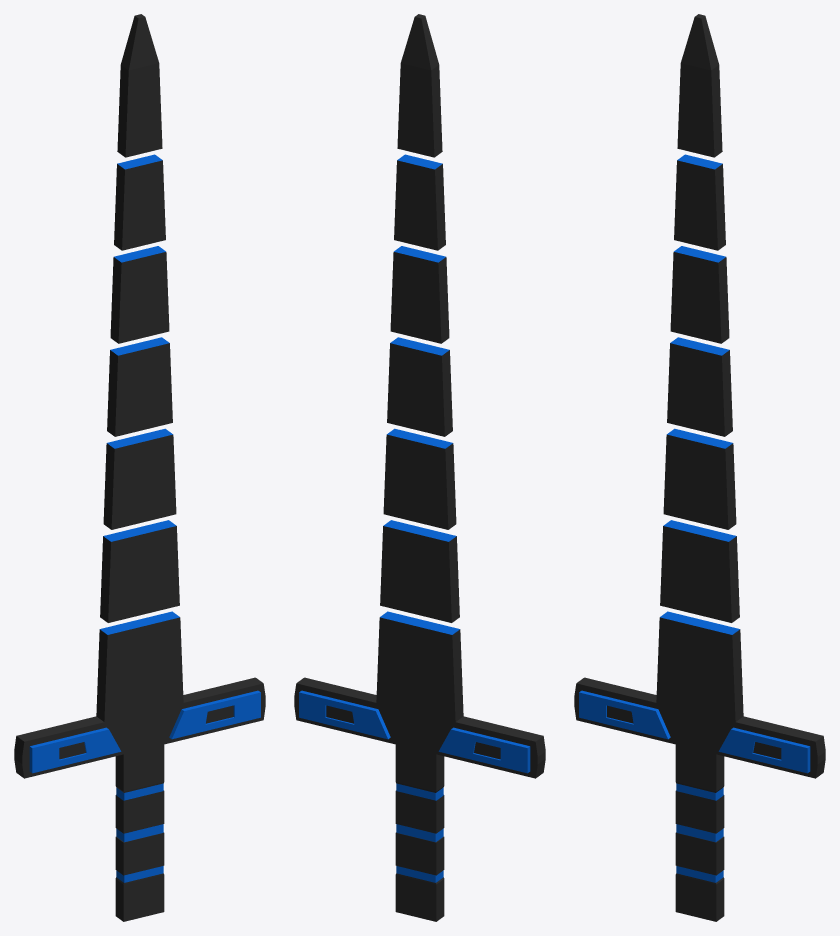
The model's file is swordmain1.fbx.
3 renders of one model, left to right at view 1: azimuth 30°, elevation 25°; view 2: azimuth 150°, elevation 25°; view 3: azimuth 330°, elevation 25°, orthographic.
Parts seen in each view (by area): view 1: Cube.003; view 2: Cube.003; view 3: Cube.003.
Part boxes in pixels (box(x1,y1,x2,y2)): Cube.003: box(14, 14, 265, 921); Cube.003: box(294, 14, 545, 921); Cube.003: box(574, 14, 825, 921).
Bounding box in the file's own units: 73.16 × 258 × 6.93.
